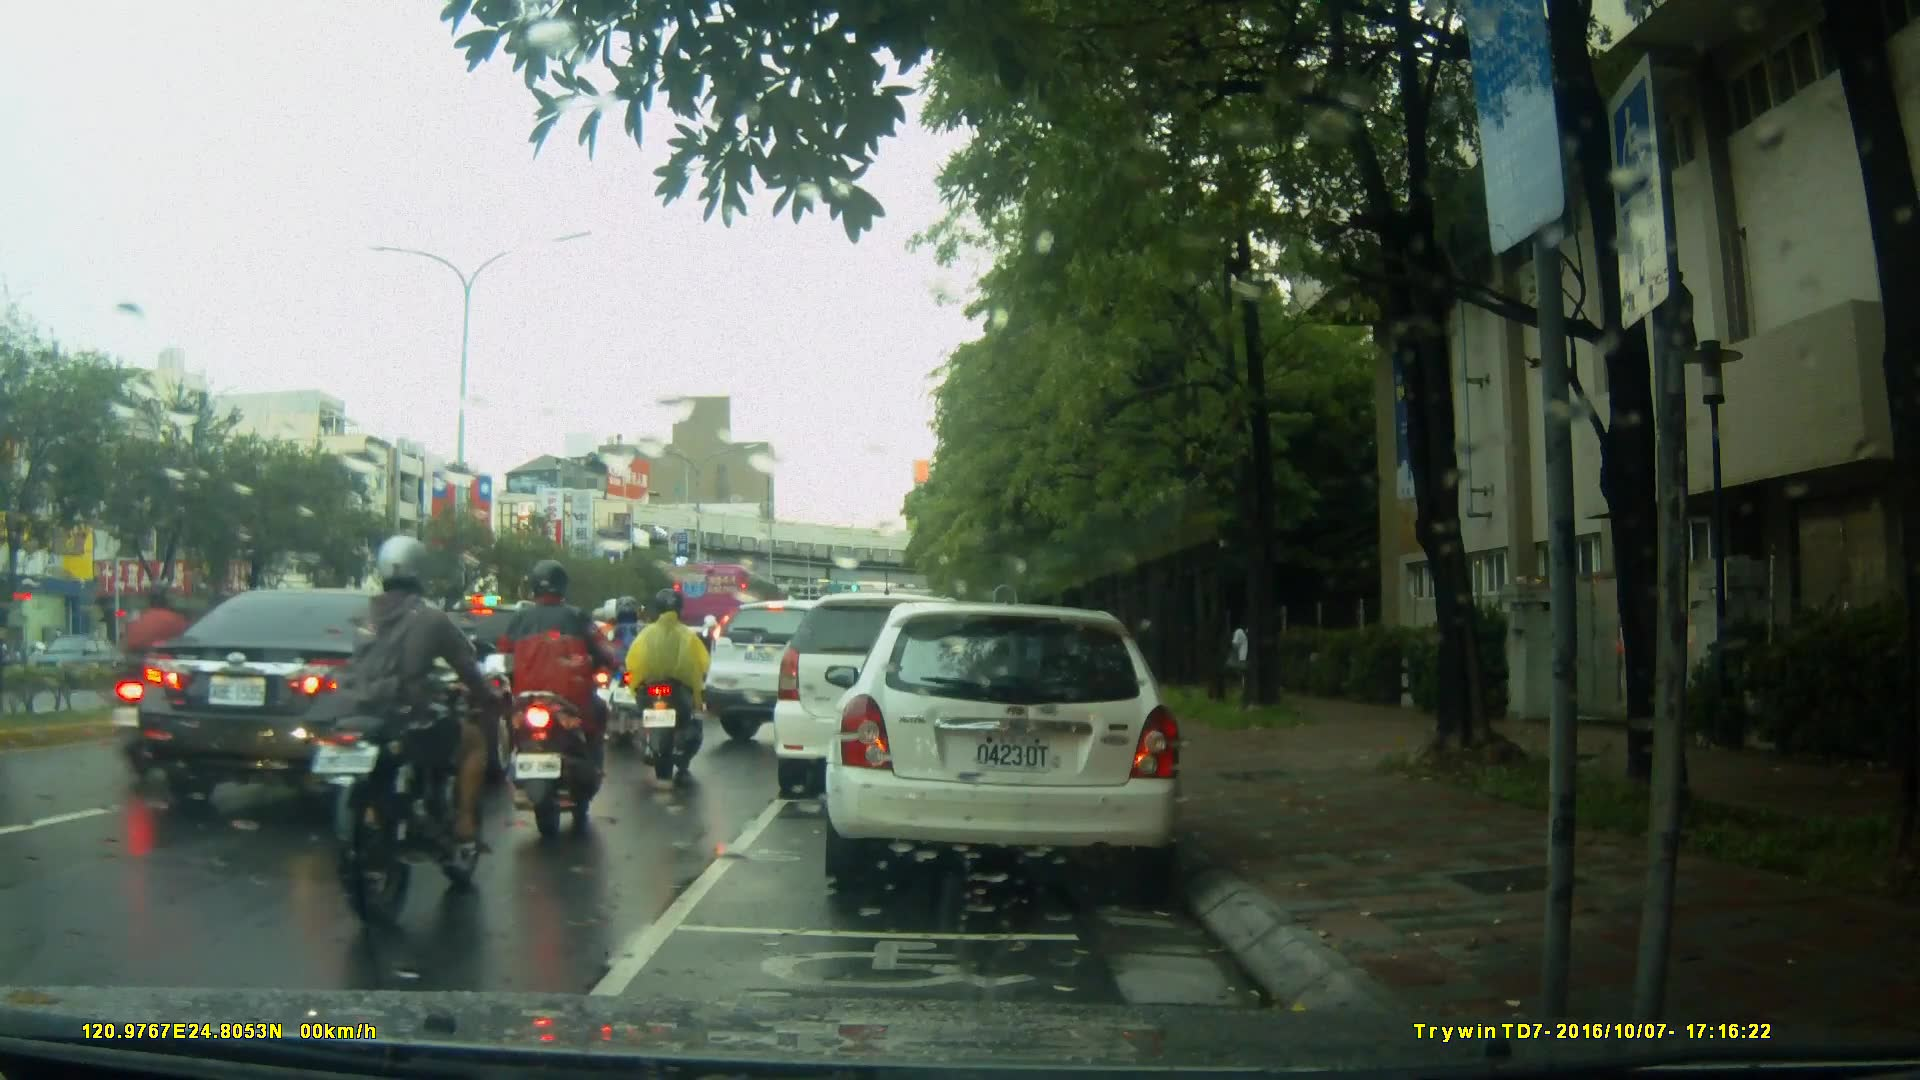rider: (289, 533, 518, 950), (500, 557, 609, 833), (116, 579, 214, 783), (621, 593, 714, 784), (604, 595, 658, 747), (584, 594, 638, 727)
vehicle: (835, 594, 1194, 898), (136, 585, 525, 815), (776, 590, 1026, 784), (700, 595, 920, 744), (670, 563, 780, 643), (22, 631, 130, 688)
